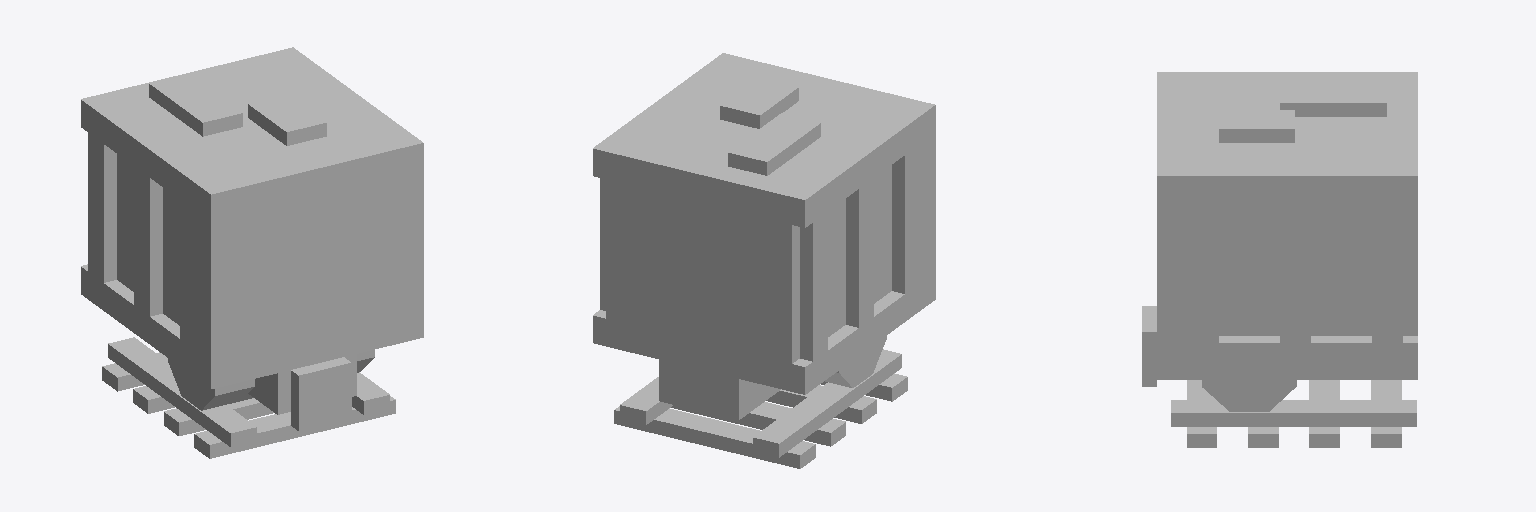
File: sm_mapnodes_wagon3.obj
3 views of the same model, side by side, from view 1: azimuth 30°, elevation 25°; view 2: azimuth 150°, elevation 25°; view 3: azimuth 270°, elevation 25° (orthographic).
Visible parts, largest first — view 1: Wagon3; view 2: Wagon3; view 3: Wagon3.
Boxes of the visible parts, x1=… form: Wagon3: x1=81, y1=47, x2=423, y2=458; Wagon3: x1=593, y1=53, x2=935, y2=468; Wagon3: x1=1142, y1=72, x2=1417, y2=447.
Size of the model in its own units: 1 by 1.31 by 1.12.